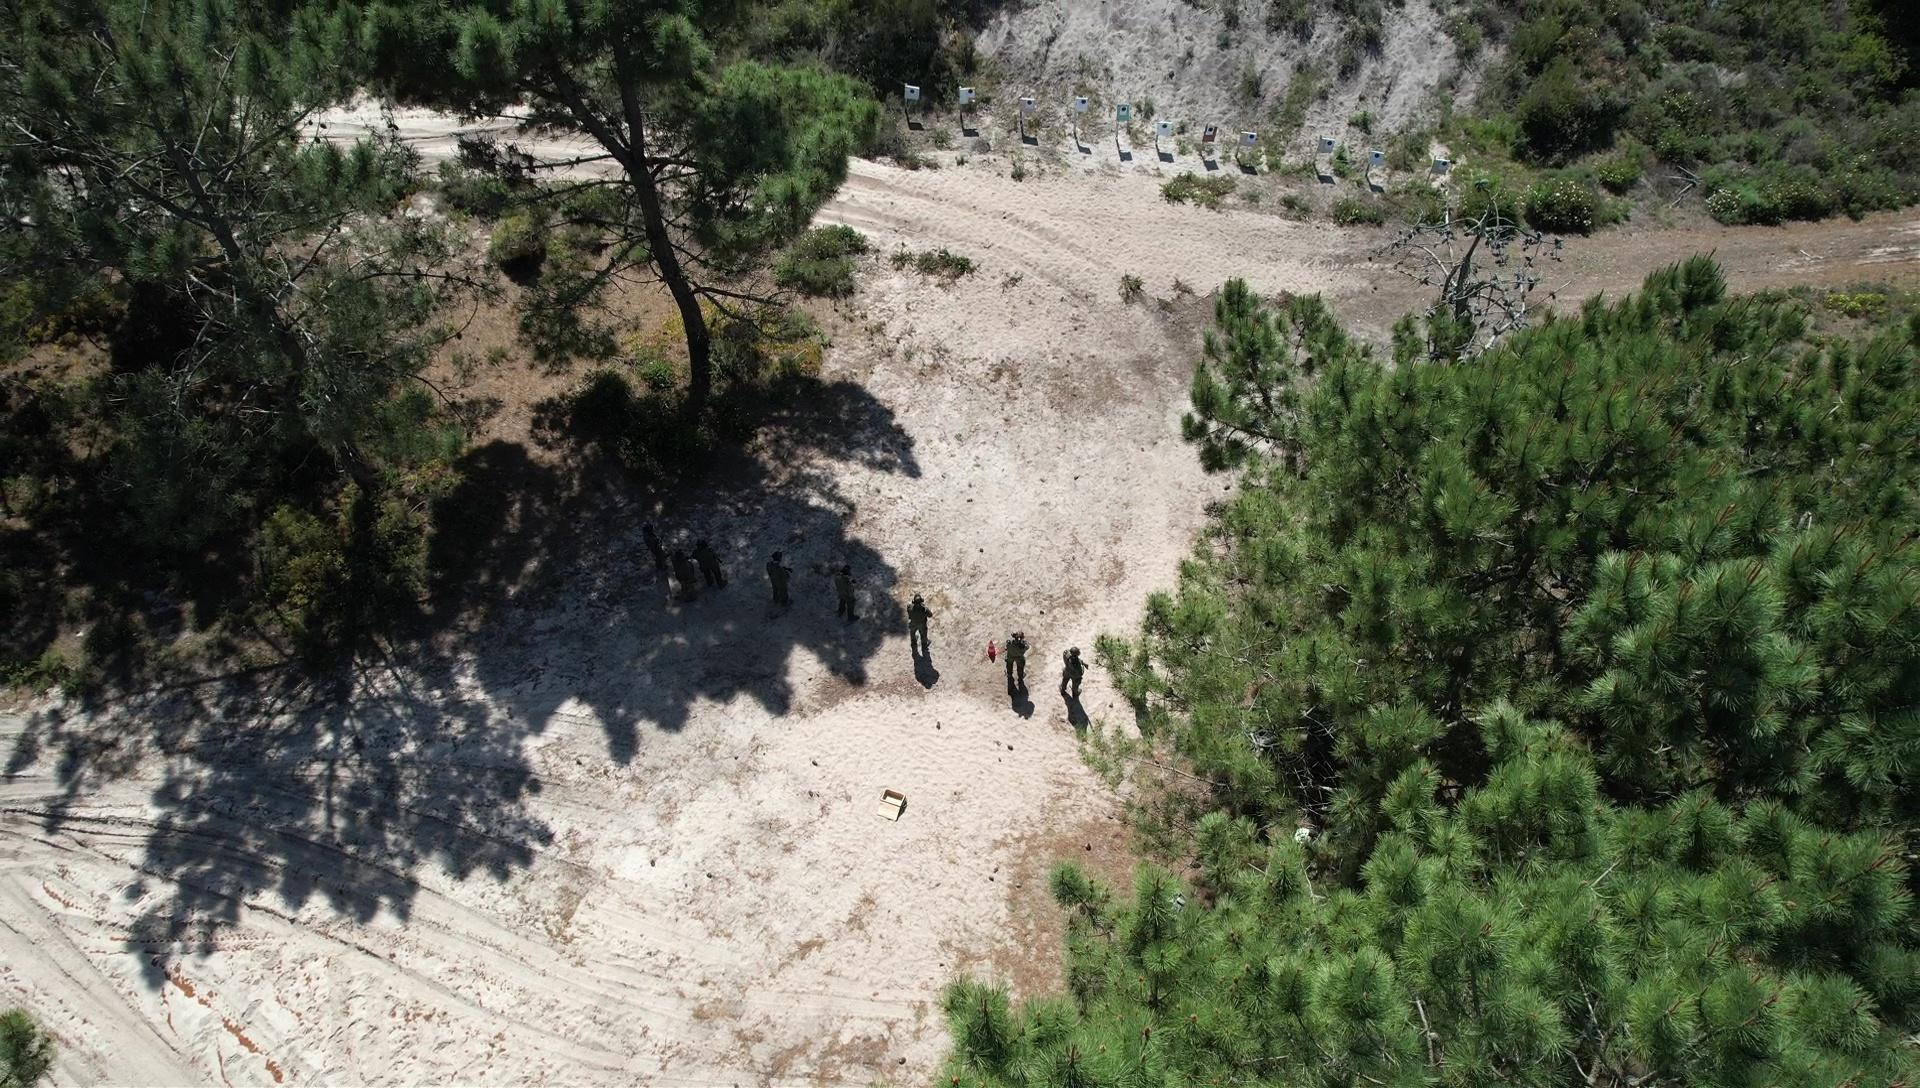Soldier: (895, 575, 940, 663), (822, 553, 866, 637), (996, 625, 1038, 704), (761, 543, 799, 619), (1055, 637, 1093, 711), (667, 549, 699, 608), (695, 537, 727, 591), (640, 520, 669, 578)
